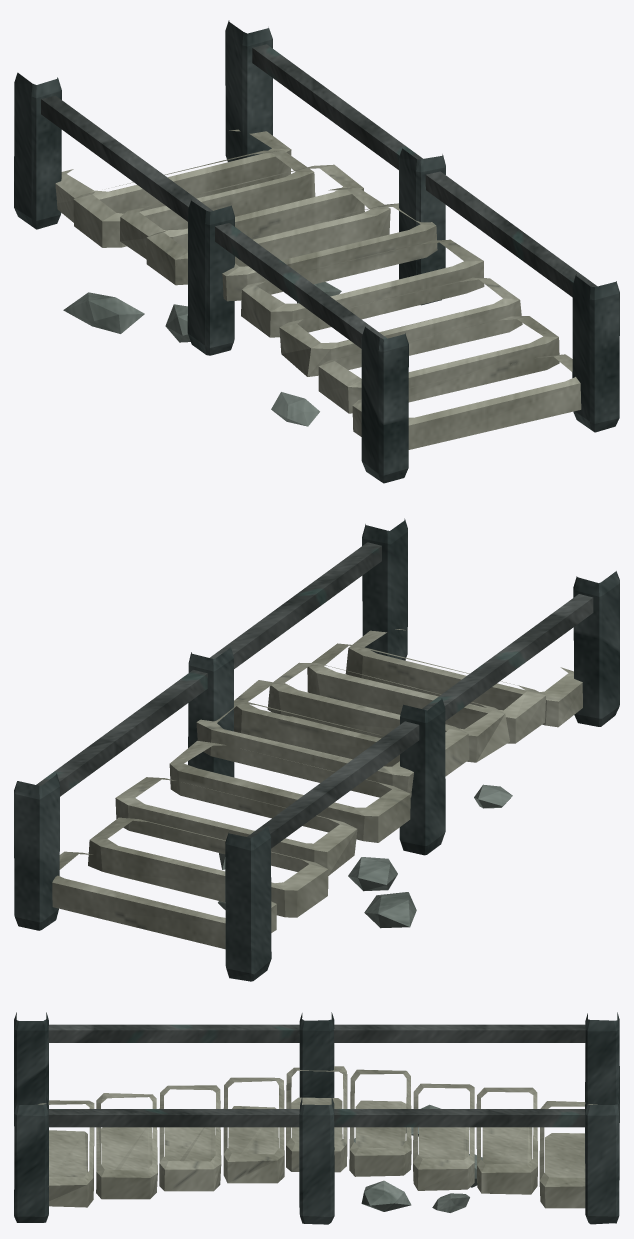
Rendered from 0399_ruined_bridge_24.glb.
The picture shows the model from 3 angles, top to bottom: view 1: azimuth 30°, elevation 25°; view 2: azimuth 150°, elevation 25°; view 3: azimuth 270°, elevation 25°; orthographic projection. The views are drawn at different scales.
Parts seen in each view (by area): view 1: stone_light, stone_dark, iron, stone; view 2: stone_light, stone_dark, iron, stone; view 3: stone_light, stone_dark, iron, stone.
Boxes of the visible parts, x1,y1,x2,y2 form: stone_light: (55, 129, 581, 449); stone_dark: (14, 20, 619, 483); iron: (41, 44, 597, 348); stone: (63, 282, 341, 426); stone_light: (52, 629, 582, 949); stone_dark: (14, 518, 619, 981); iron: (36, 542, 593, 848); stone: (218, 784, 512, 928); stone_light: (38, 1066, 597, 1208); stone_dark: (14, 1012, 619, 1224); iron: (48, 1024, 585, 1127); stone: (354, 1104, 482, 1212).
Size of the model in its own units: 2.02 by 1.1 by 4.39.
Materials: 4 (4 with a texture image).
